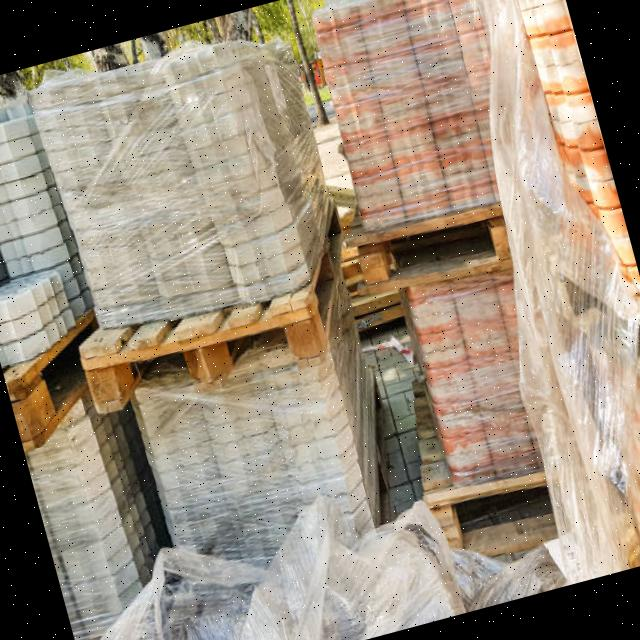Wooden-Pallets: (81, 289, 329, 413)
